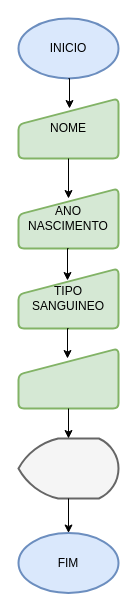
Some shapes in this 136 by 611 pixel diagram are drawn without their labels. Here are the shapes that lost their labels. From the top down, the centre of each, then its label:
At (x=68, y=378): "RENDA MENSAL".
At (x=68, y=468): "IMPRIME".
